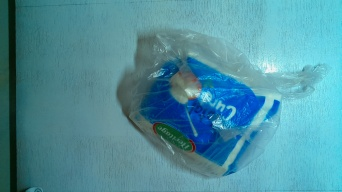m: (132, 46, 282, 184)
